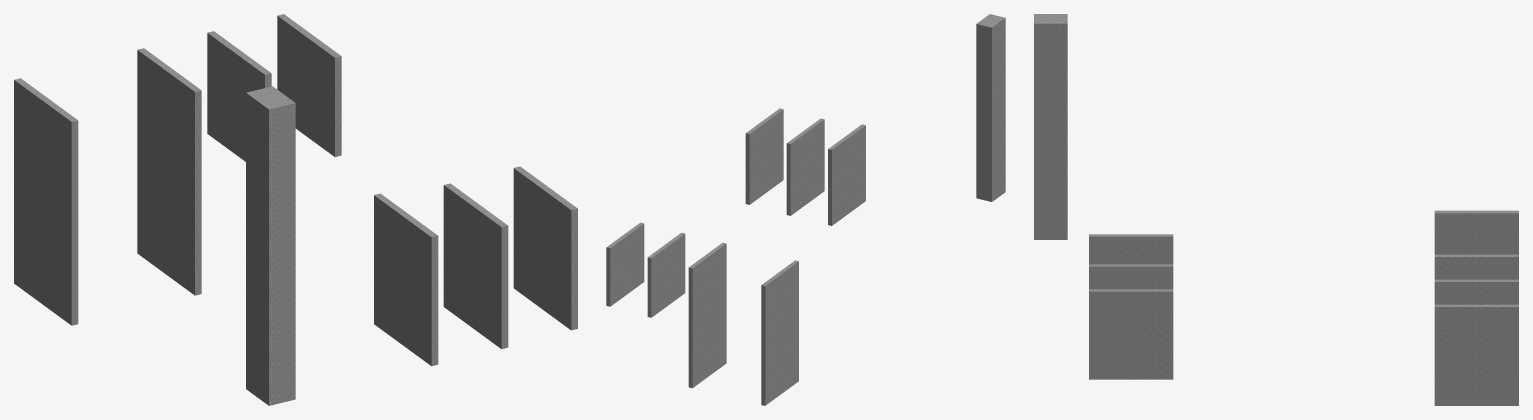
3 renders of one model, left to right at view 1: azimuth 30°, elevation 25°; view 2: azimuth 150°, elevation 25°; view 3: azimuth 270°, elevation 25°, orthographic. The views are drawn at different scales.
Parts seen in each view (by area): view 1: 0_0_2_1_2_2; view 2: 0_0_2_1_2_2; view 3: 0_0_2_1_2_2.
Boxes of the visible parts, bbox=[...] form: 0_0_2_1_2_2: bbox=[14, 14, 577, 405]; 0_0_2_1_2_2: bbox=[606, 14, 1005, 405]; 0_0_2_1_2_2: bbox=[1034, 14, 1518, 405].
Size of the model in its own units: 10.4 by 12.49 by 17.25.
8 materials, 8 textured.
